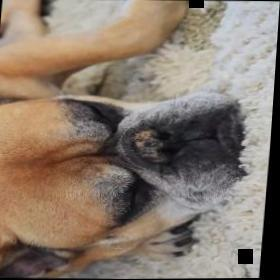keratosis: (132, 125, 183, 163)
